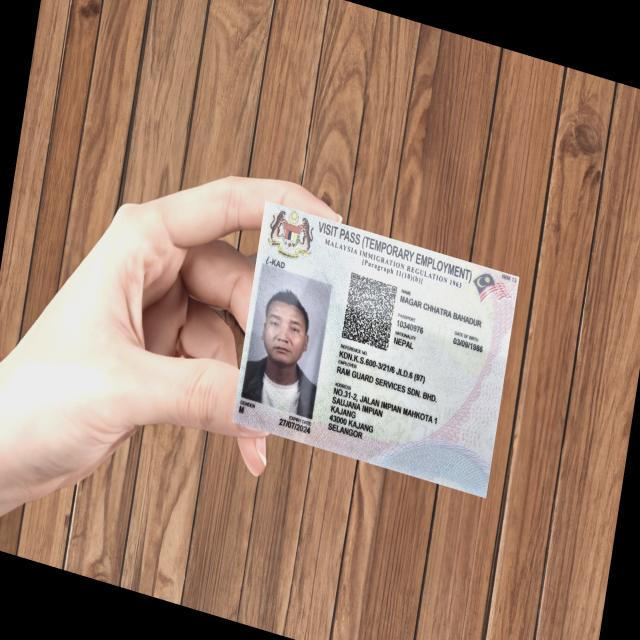ikad-temp: (232, 200, 520, 498)
